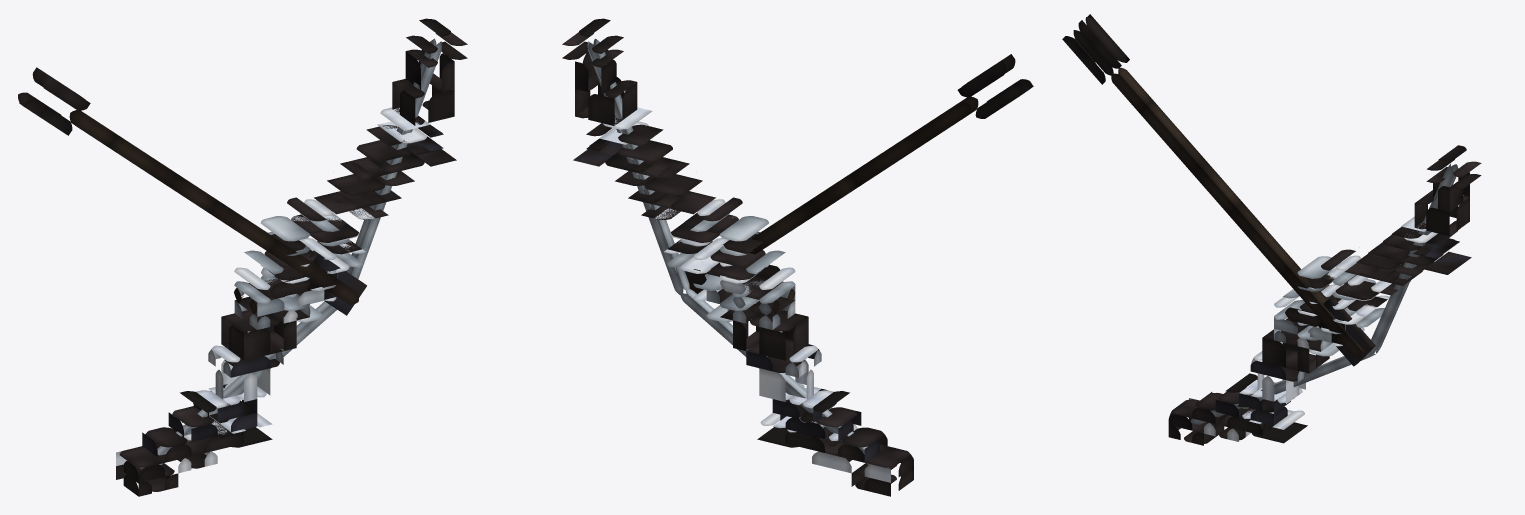
File: raven_recurve_pulling_1.obj
3 views of the same model, side by side, from view 1: azimuth 30°, elevation 25°; view 2: azimuth 150°, elevation 25°; view 3: azimuth 330°, elevation 25° (orthographic). The views are drawn at different scales.
Visible parts, largest first — view 1: lit; view 2: lit; view 3: lit.
Part boxes in pixels (x1,y1,x2,y2): lit: (18,18,467,496); lit: (562,18,1033,496); lit: (1062,14,1481,445).
Size of the model in its own units: 1.15 by 1.11 by 0.125.
